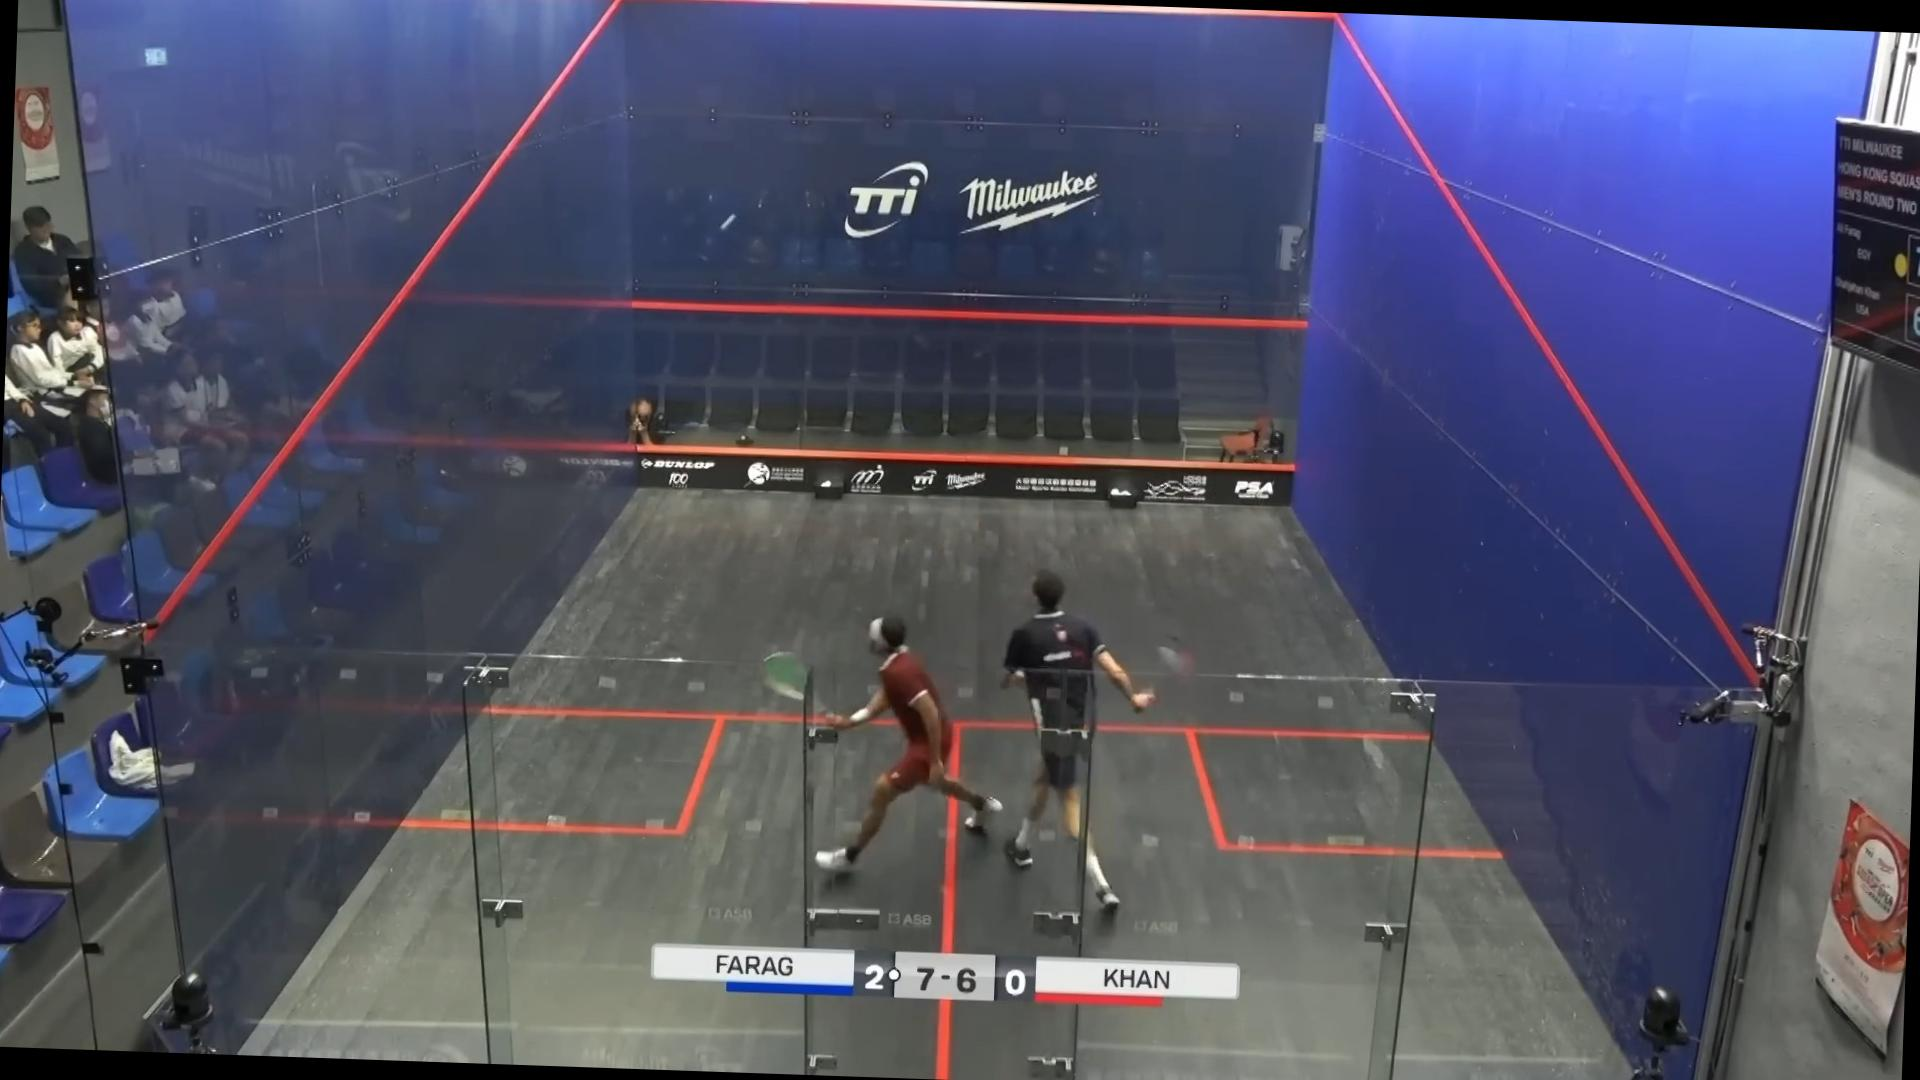Racket: (753, 646, 839, 720)
